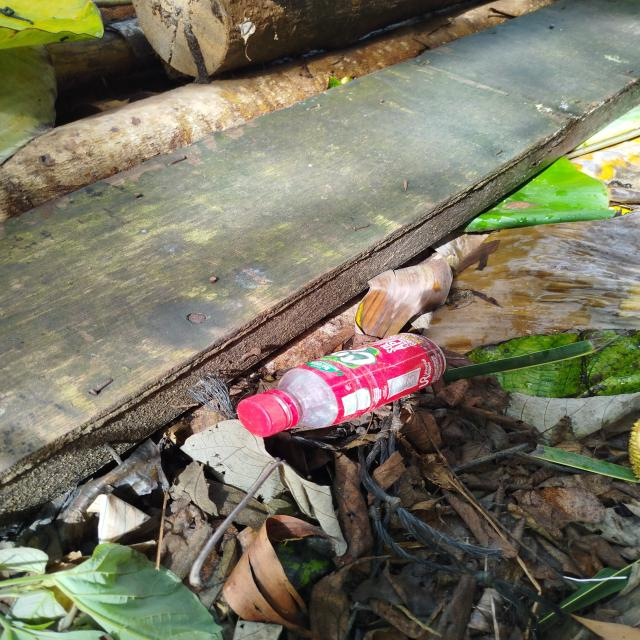plastic: (224, 323, 470, 448)
